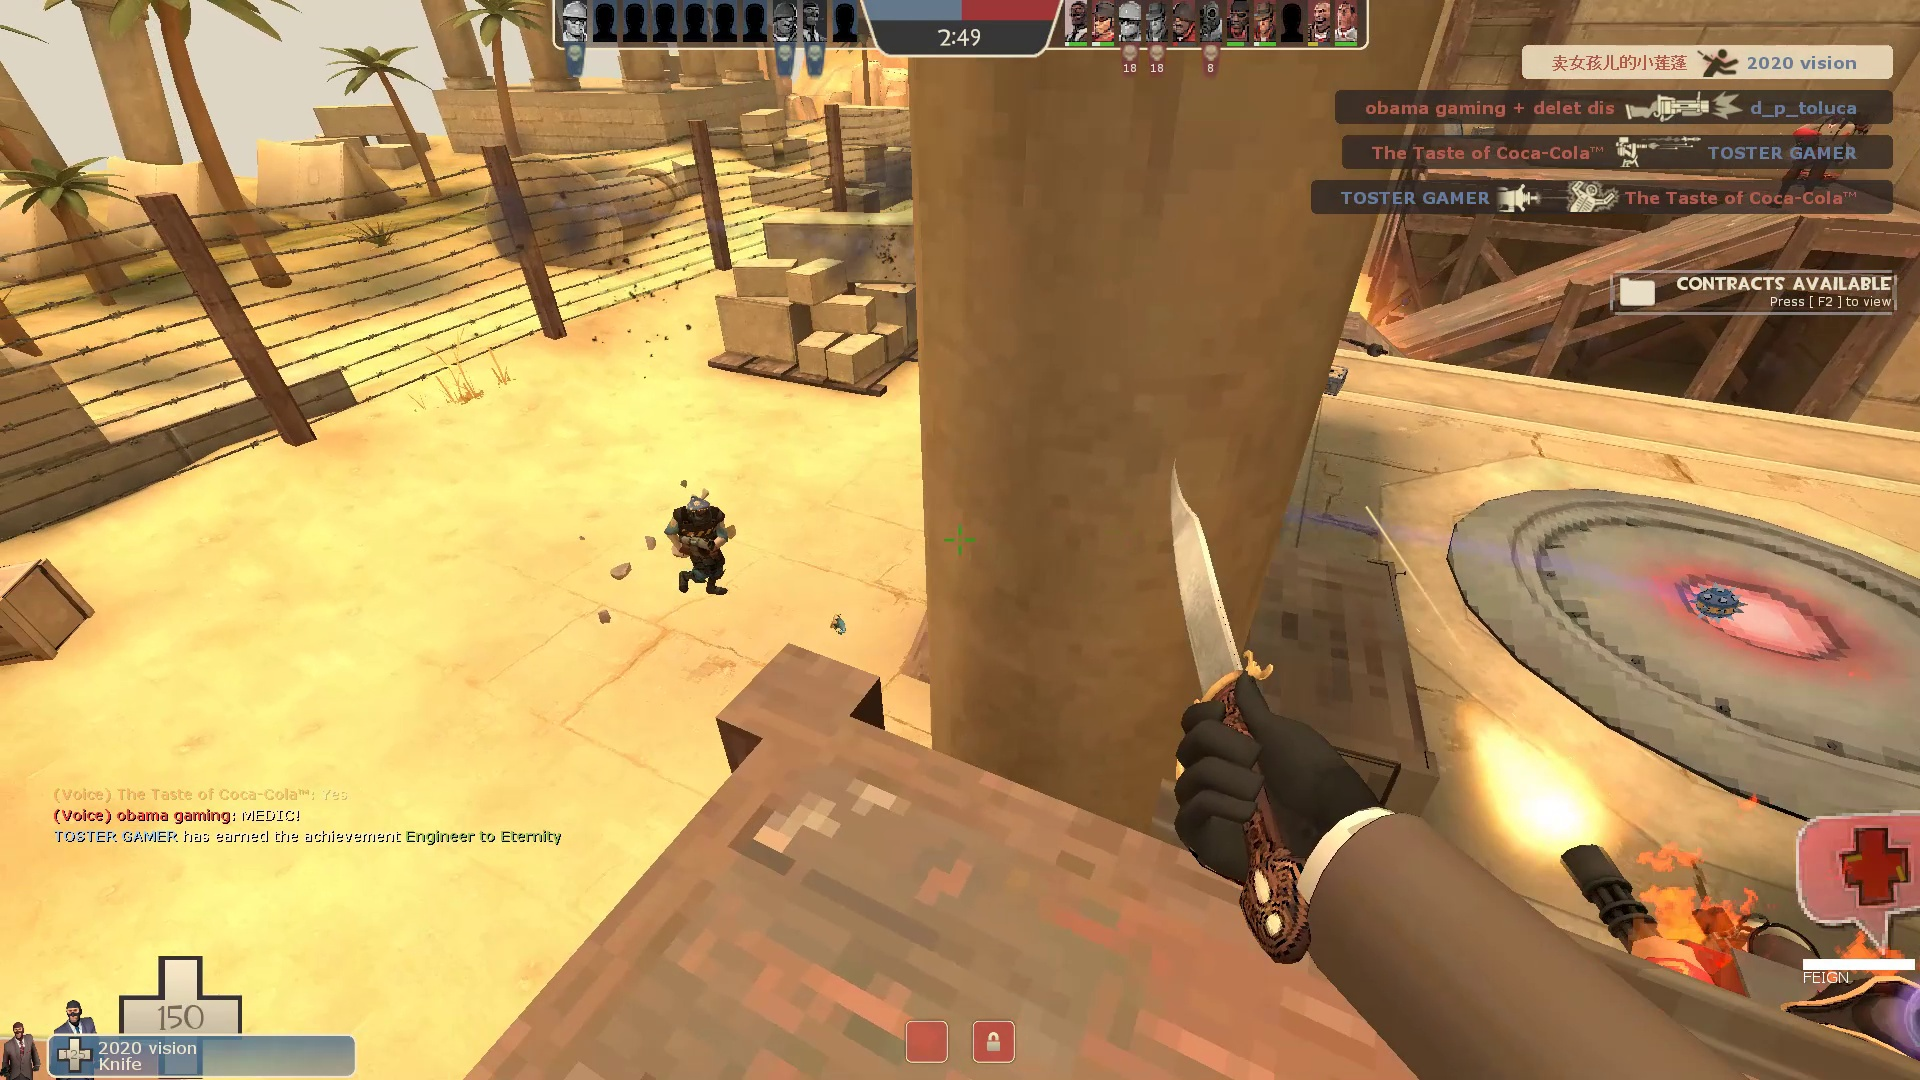blu_demo: (662, 487, 746, 609)
red_heavy: (1547, 789, 1920, 1077)
